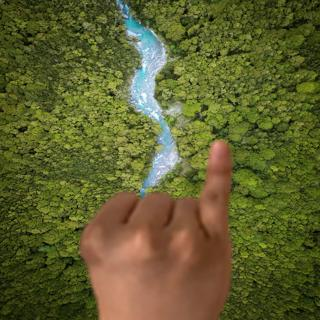FINE: (73, 132, 245, 320)
